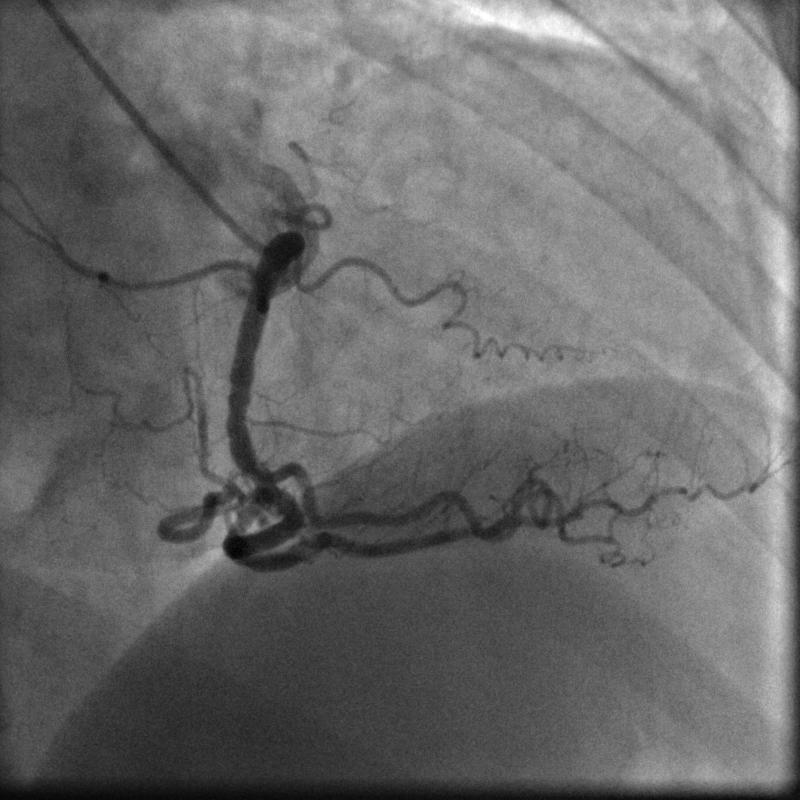Stenosis: (231, 460, 288, 493)
